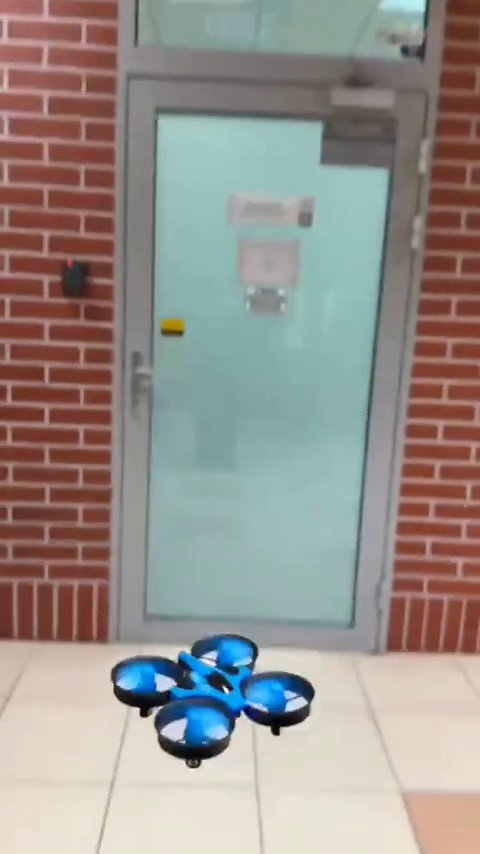drone: (114, 635, 313, 770)
